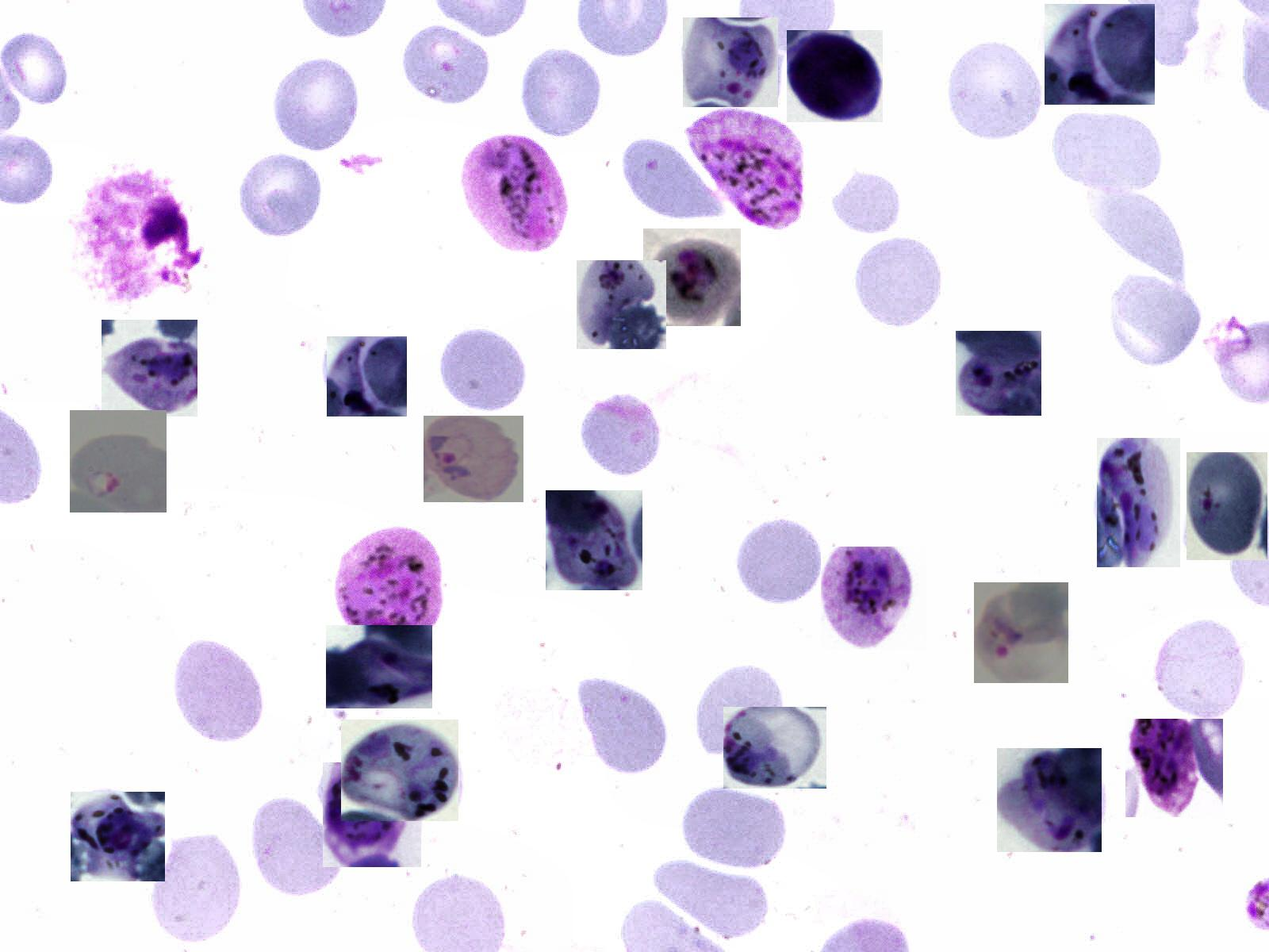Infected: (76, 166, 201, 302), (687, 103, 804, 232), (457, 134, 569, 257), (335, 524, 443, 637), (341, 720, 458, 821), (1045, 4, 1155, 105), (997, 748, 1102, 852), (821, 547, 926, 650), (1097, 438, 1180, 567), (323, 762, 421, 867), (70, 410, 167, 512), (1125, 719, 1223, 817), (643, 229, 741, 327), (546, 490, 642, 590), (974, 582, 1068, 683), (102, 320, 197, 416), (787, 30, 883, 122), (326, 625, 432, 708), (1187, 452, 1267, 560), (424, 416, 523, 502), (683, 18, 778, 107), (723, 707, 826, 789), (71, 792, 165, 881), (577, 260, 666, 349), (956, 331, 1041, 416), (327, 336, 407, 416)
Uninfected: (945, 38, 1046, 145), (1091, 185, 1189, 294), (1153, 612, 1249, 720), (649, 857, 772, 941), (1049, 109, 1167, 194), (1107, 263, 1202, 367), (151, 835, 243, 942), (253, 796, 346, 895), (853, 230, 945, 330), (622, 130, 723, 219), (694, 661, 786, 757), (578, 676, 668, 774), (175, 642, 266, 738), (735, 512, 826, 607), (271, 60, 361, 155), (681, 788, 786, 868), (398, 21, 493, 109), (518, 47, 608, 139), (236, 150, 323, 240), (439, 327, 527, 415), (580, 393, 662, 480), (2, 33, 79, 105), (828, 162, 902, 236)
